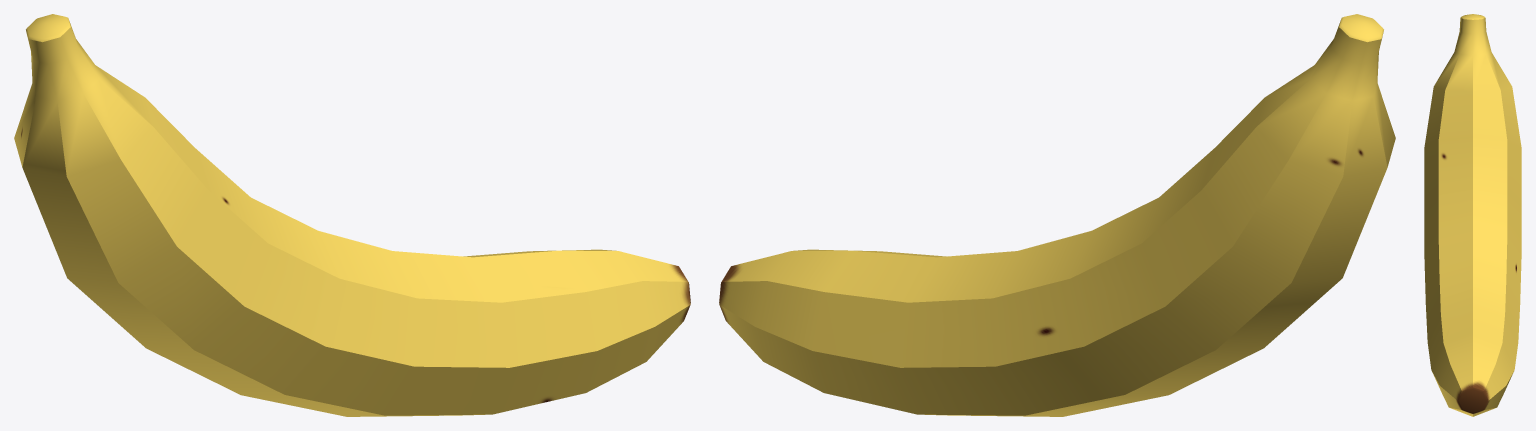
File: Banana.fbx
3 views of the same model, side by side, from view 1: azimuth 30°, elevation 25°; view 2: azimuth 150°, elevation 25°; view 3: azimuth 270°, elevation 25° (orthographic). The views are drawn at different scales.
Visible parts, largest first — view 1: Banana; view 2: Banana; view 3: Banana.
Boxes of the visible parts, bbox=[...] form: Banana: bbox=[14, 14, 690, 416]; Banana: bbox=[719, 14, 1395, 416]; Banana: bbox=[1424, 14, 1521, 416].
Size of the model in its own units: 2.13 by 1.54 by 0.5151.
1 material, 1 textured.
